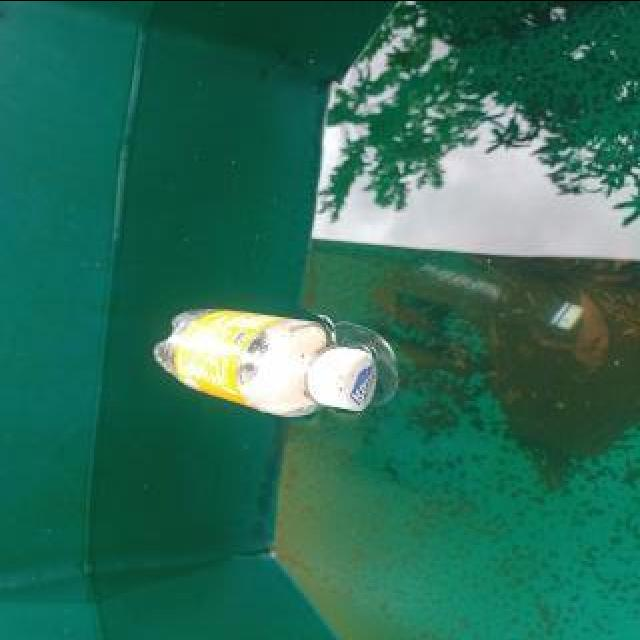Bottle: (144, 301, 384, 427)
